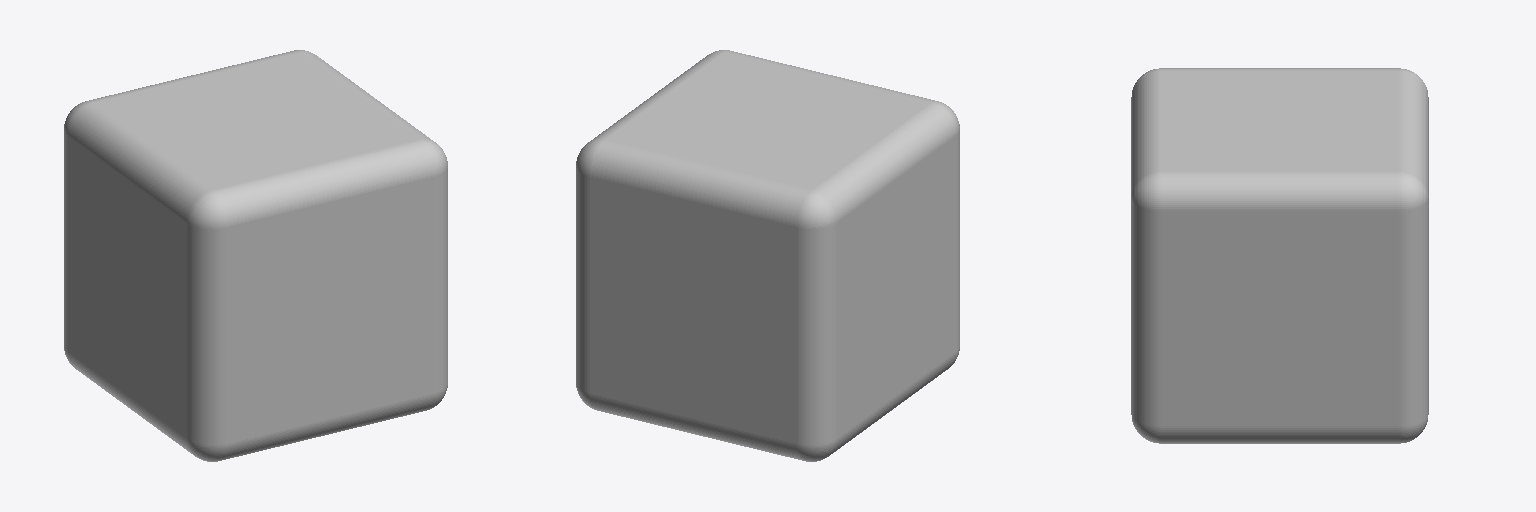
The picture shows the model from 3 angles: view 1: azimuth 30°, elevation 25°; view 2: azimuth 150°, elevation 25°; view 3: azimuth 270°, elevation 25°; orthographic projection.
Parts seen in each view (by area): view 1: <STL_BINARY>; view 2: <STL_BINARY>; view 3: <STL_BINARY>.
Boxes of the visible parts, <box> form: <STL_BINARY>: <box>64,50,447,461</box>; <STL_BINARY>: <box>576,50,959,461</box>; <STL_BINARY>: <box>1131,68,1428,443</box>.
Bounding box in the file's own units: 10 × 10 × 10.